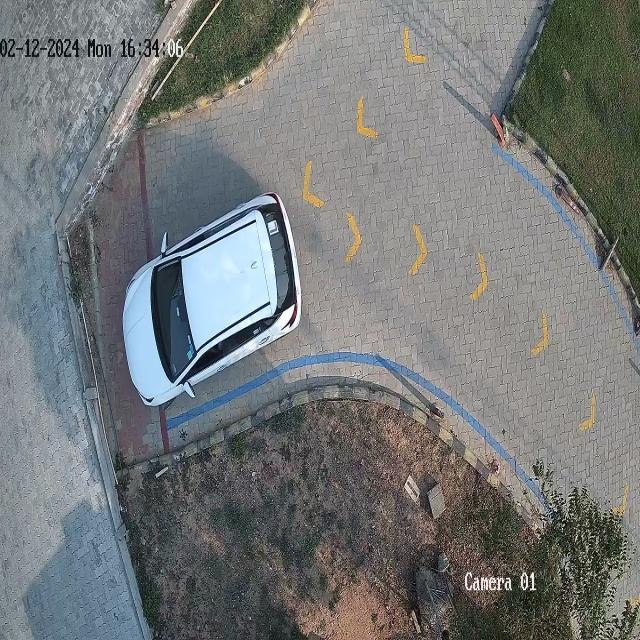car: (122, 193, 301, 408)
